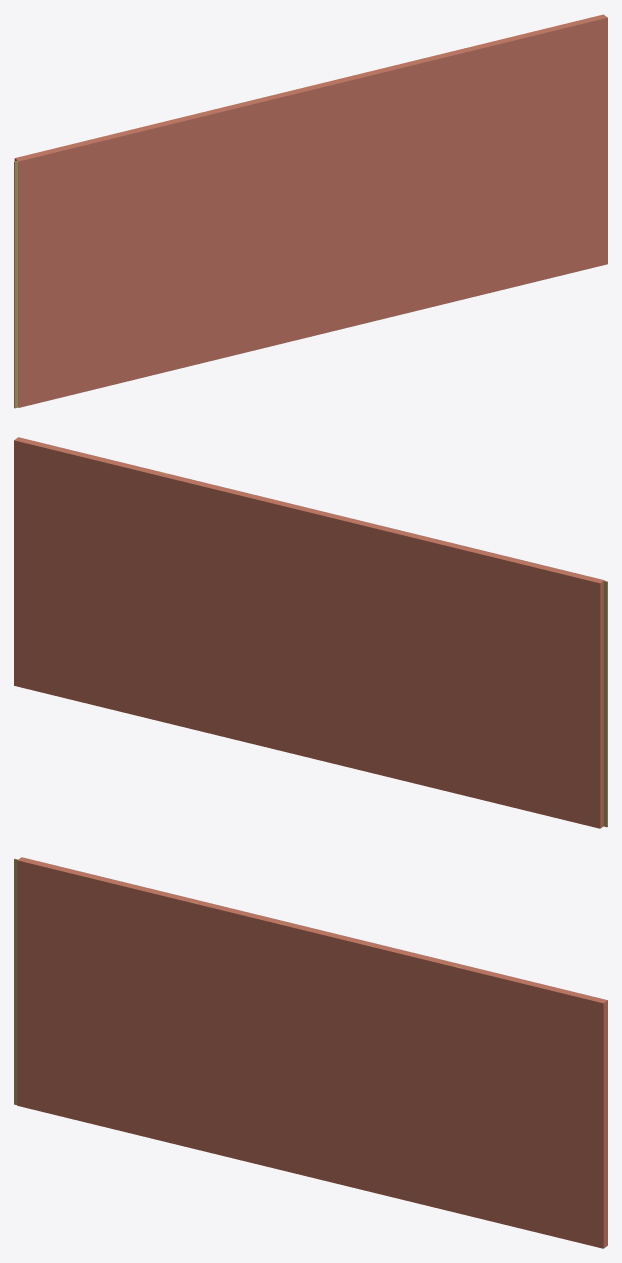
File: 095_L102_Termination_Fault.glb
3 renders of one model, top to bottom at view 1: azimuth 30°, elevation 25°; view 2: azimuth 150°, elevation 25°; view 3: azimuth 330°, elevation 25°, orthographic.
Parts seen in each view (by area): view 1: PART_000_Fault_Red, PART_001_Copper_Gold; view 2: PART_000_Fault_Red, PART_001_Copper_Gold; view 3: PART_000_Fault_Red, PART_001_Copper_Gold.
Part boxes in pixels (x1,y1,x2,y2): PART_000_Fault_Red: (14,14,607,407); PART_001_Copper_Gold: (14,160,18,408); PART_000_Fault_Red: (14,437,604,828); PART_001_Copper_Gold: (603,580,607,827); PART_000_Fault_Red: (17,857,607,1248); PART_001_Copper_Gold: (14,858,17,1104).
Size of the model in its own units: 0.0101 by 0.004 by 0.00013.
